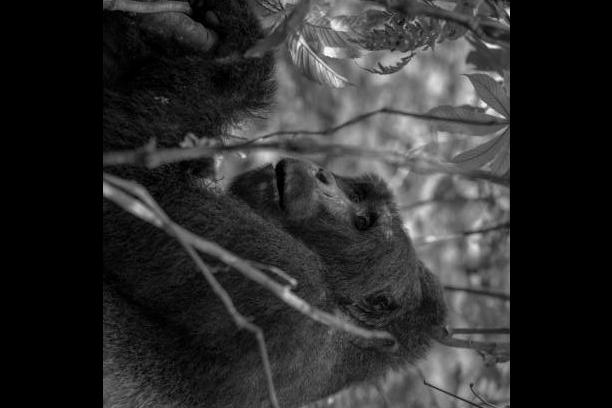goriile_montagne: (102, 136, 453, 408)
